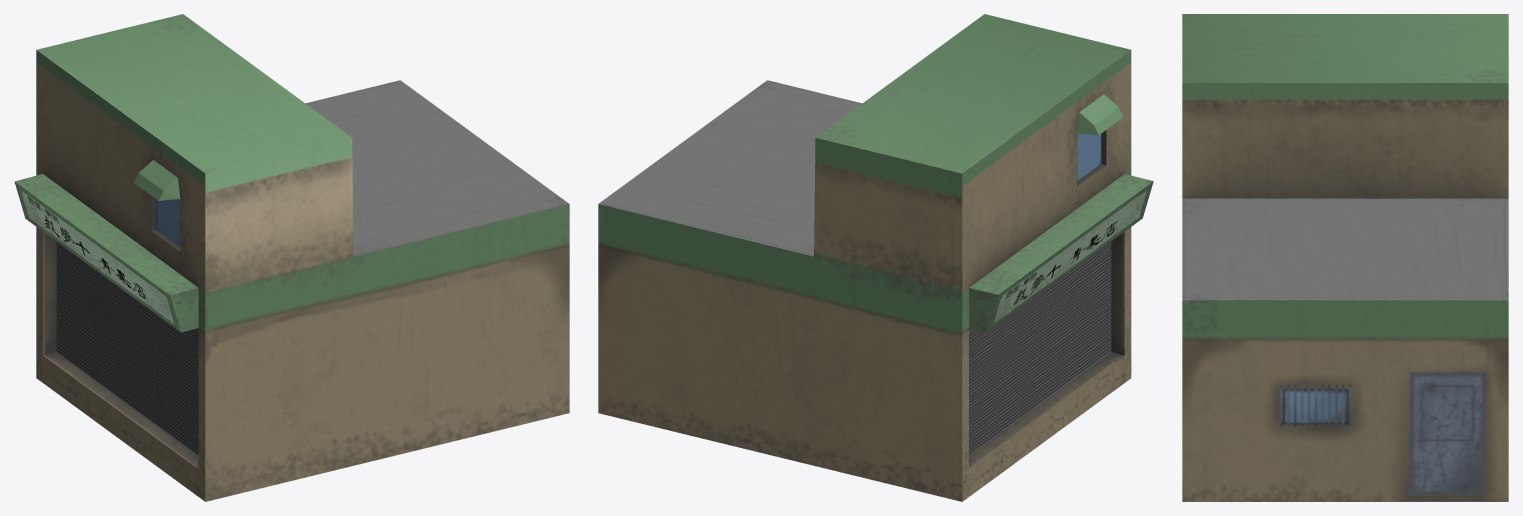
File: yoy.fbx
3 views of the same model, side by side, from view 1: azimuth 30°, elevation 25°; view 2: azimuth 150°, elevation 25°; view 3: azimuth 270°, elevation 25° (orthographic). The views are drawn at different scales.
Parts seen in each view (by area): view 1: yoy; view 2: yoy; view 3: yoy.
Boxes of the visible parts, x1,y1,x2,y2 form: yoy: (14, 14, 569, 501); yoy: (598, 14, 1153, 501); yoy: (1182, 14, 1508, 501).
Bounding box in the file's own units: 9.83 × 7.85 × 7.33.
1 material, 1 textured.
